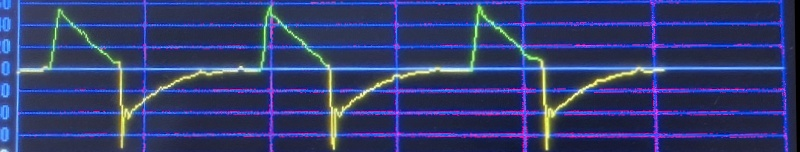normal_flow: (12, 0, 665, 152)
